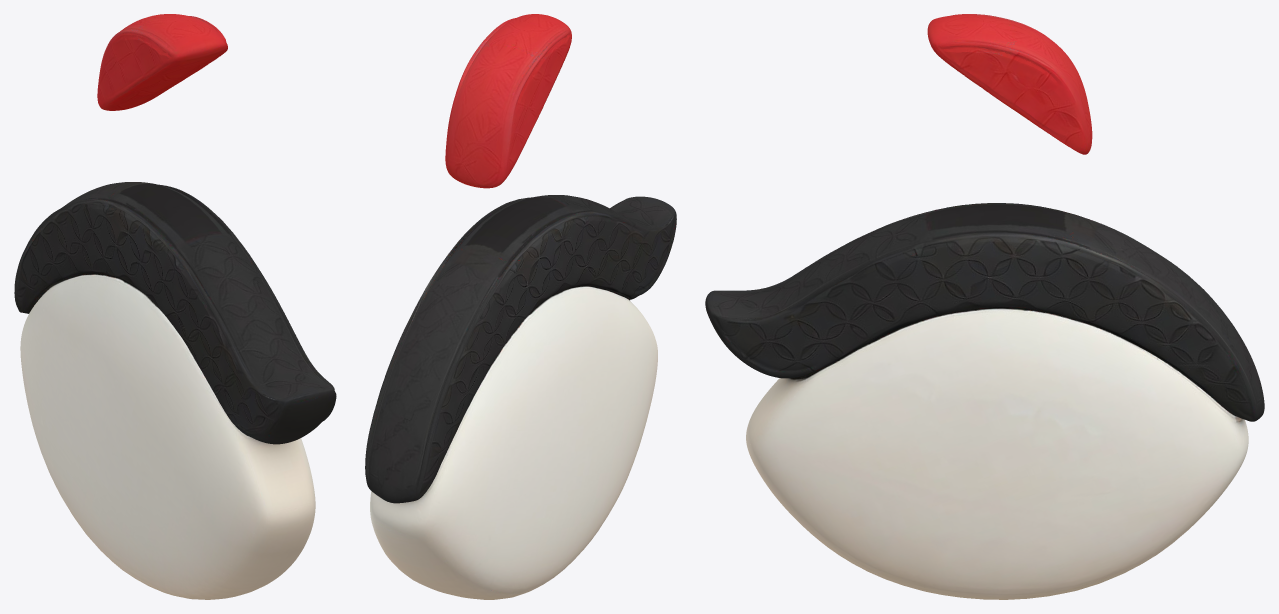
File: EyeWhite.glb
3 renders of one model, left to right at view 1: azimuth 30°, elevation 25°; view 2: azimuth 150°, elevation 25°; view 3: azimuth 270°, elevation 25°, orthographic. The views are drawn at different scales.
Visible parts, largest first — view 1: model.001; view 2: model.001; view 3: model.001.
Part boxes in pixels (x1=…): model.001: x1=14, y1=14, x2=336, y2=599; model.001: x1=365, y1=14, x2=676, y2=599; model.001: x1=705, y1=14, x2=1264, y2=599.
Bounding box in the file's own units: 0.3977 × 1.9 × 1.7.
1 material, 1 textured.
